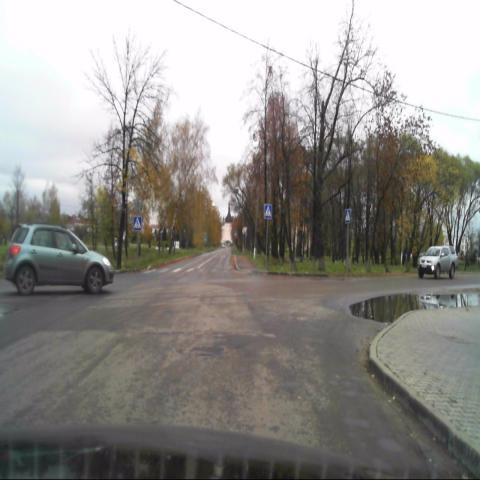5_19_1: (133, 216, 141, 231), (264, 204, 271, 219)
